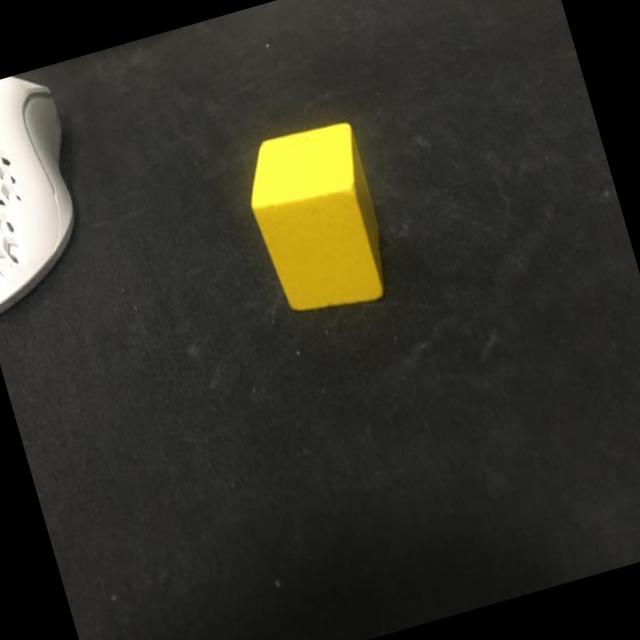yellow: (235, 116, 398, 324)
